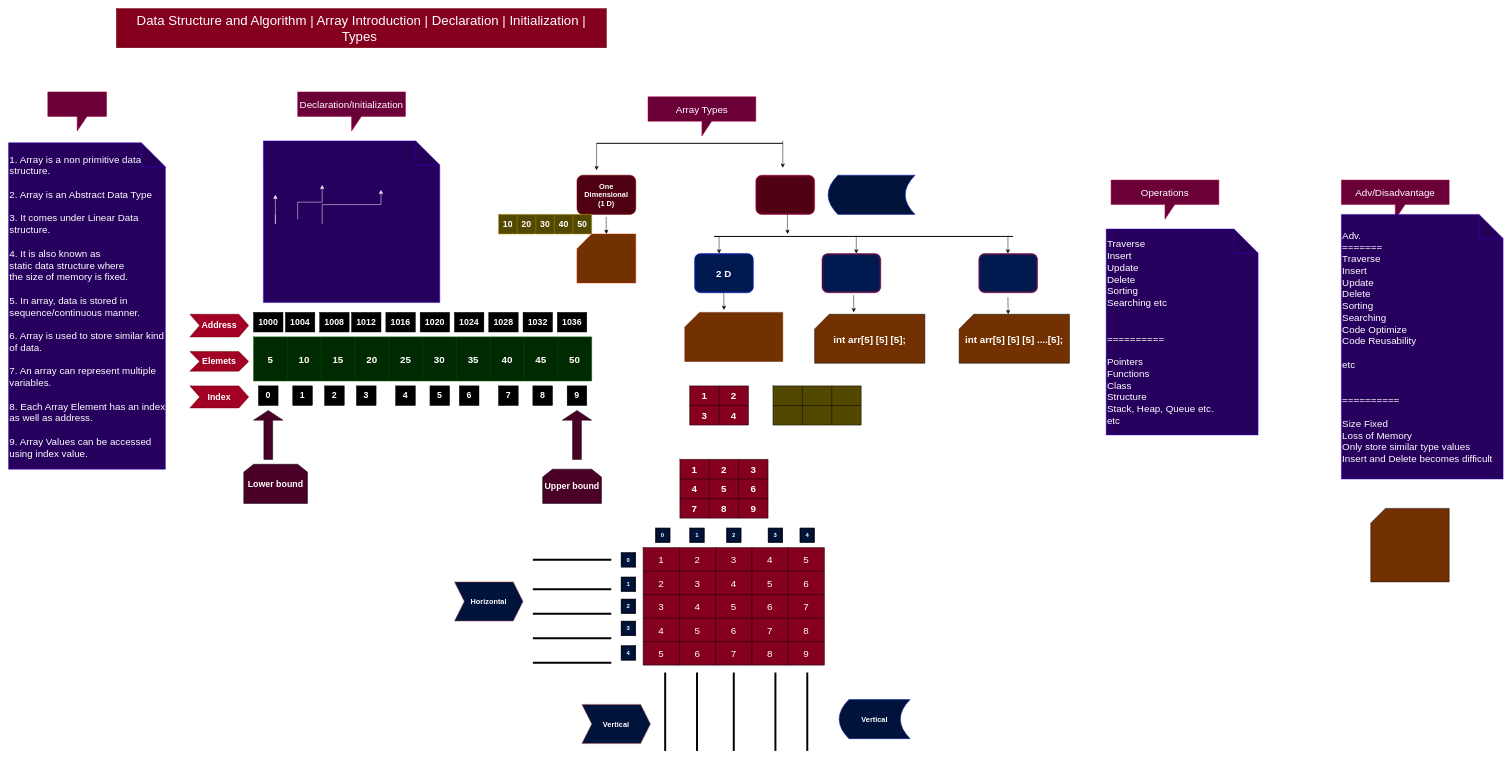
Some shapes in this 1512 by 760 pixel diagram are drawn without their labels. Here are the shapes that lost their labels. From the top down, the centre of each, then its label:
At [77,111]: "Introduction".
At [785,194]: "Multi Dimensional 2D, 3D, ...nD".
At [871,194]: "Array of Arrays".
At [351,221]: "Syntax: Data_Type array_name[size] ; int arr[10] ; int arr[10]={5,10,15...50};".
At [606,258]: "int arr[5];".
At [851,273]: "3 D".
At [1008,273]: "n D".
At [733,336]: "int arr[5][5];".
At [1409,545]: "int arr[100]; 100*2=200".
